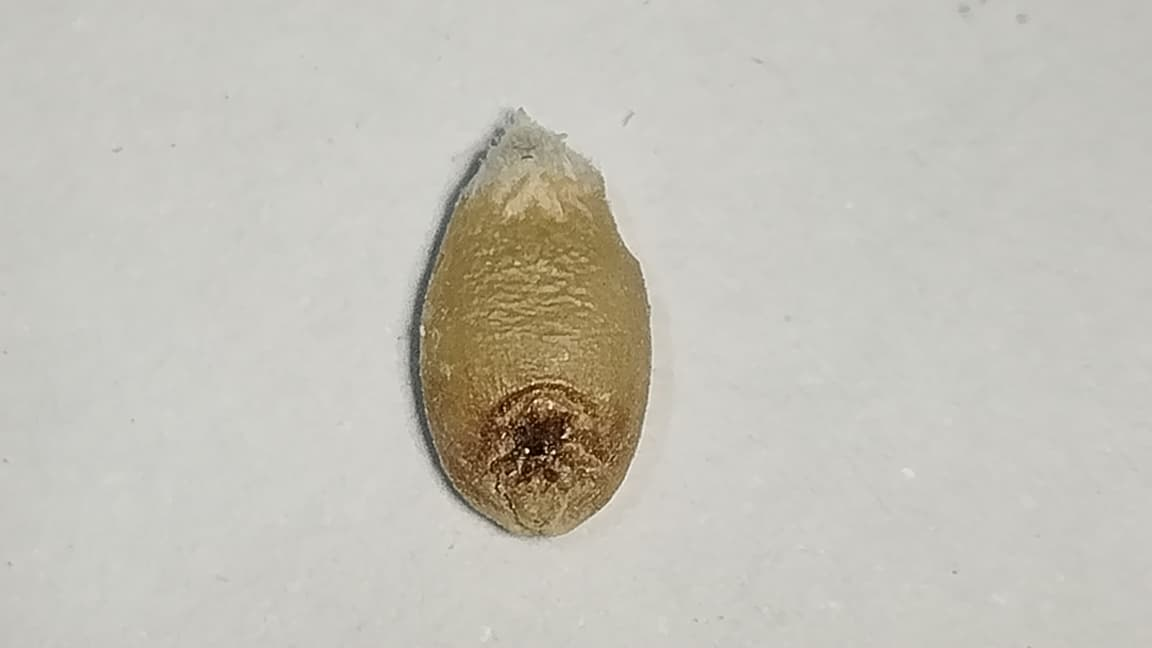damage: (416, 110, 652, 534)
staindamage: (461, 361, 628, 526)
